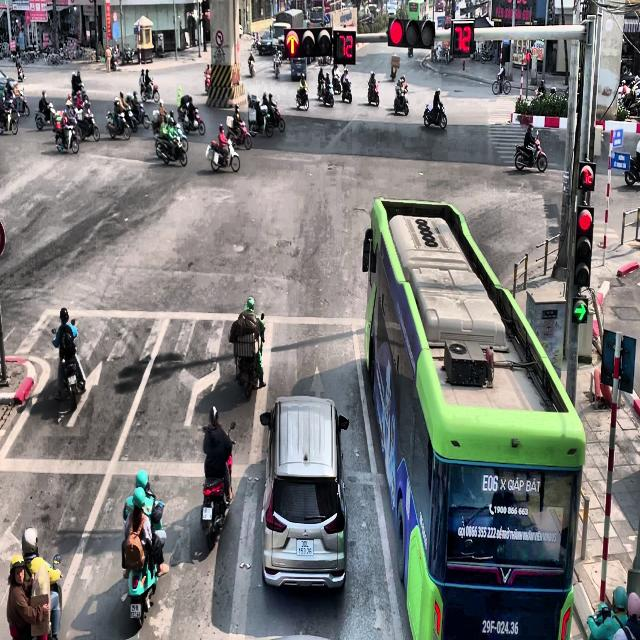lisence_plate: (480, 617, 520, 636), (295, 538, 314, 557)
